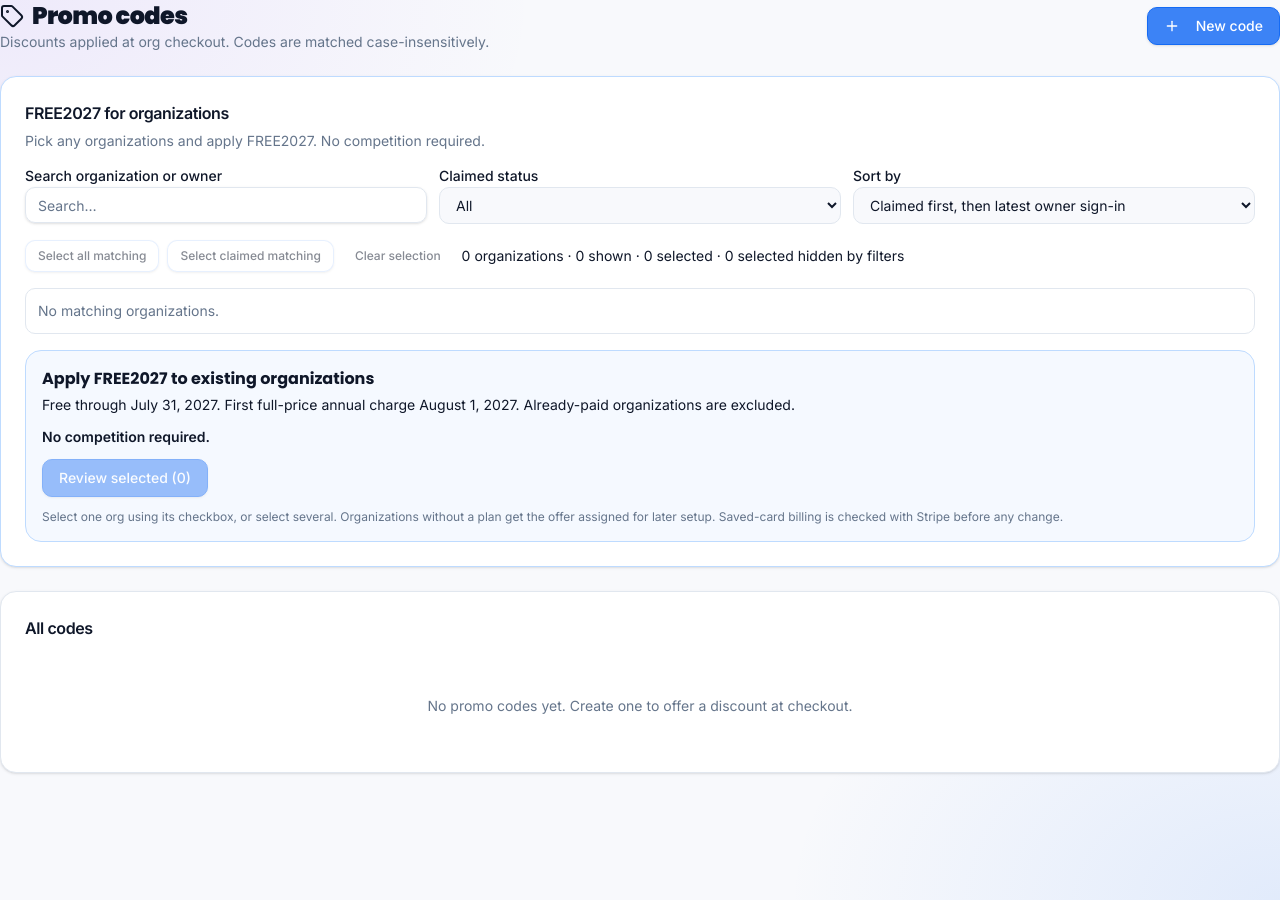
Test: promo offer mode › puts the choice before the code, removes all discount controls, creates with code alone and reopens linked terms
Click the button with test id "btn-new-promo" at (1213, 26), box [1147,7,1279,45]
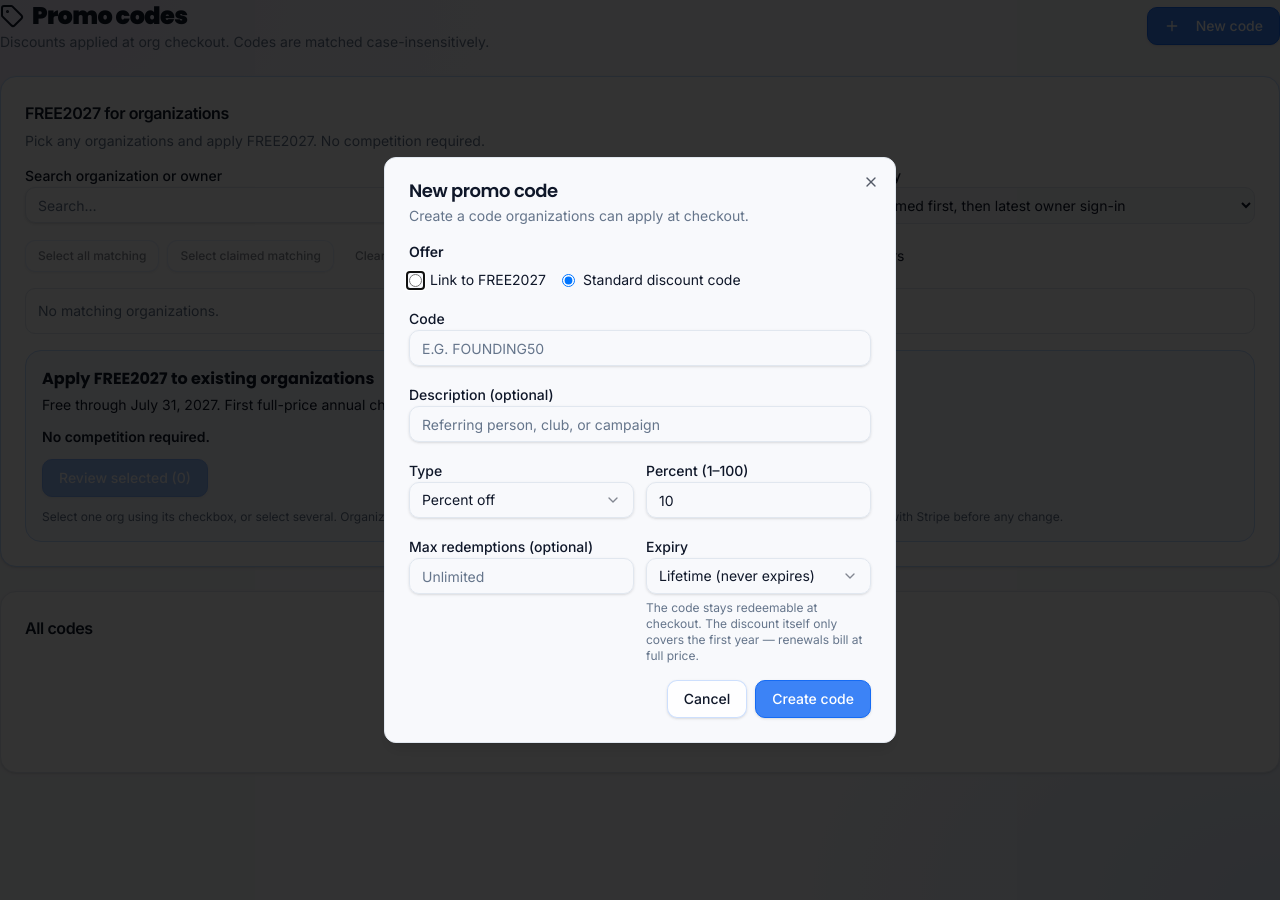
Click the radio button labelled "Link to FREE2027" at (416, 280), box [409,274,422,286]
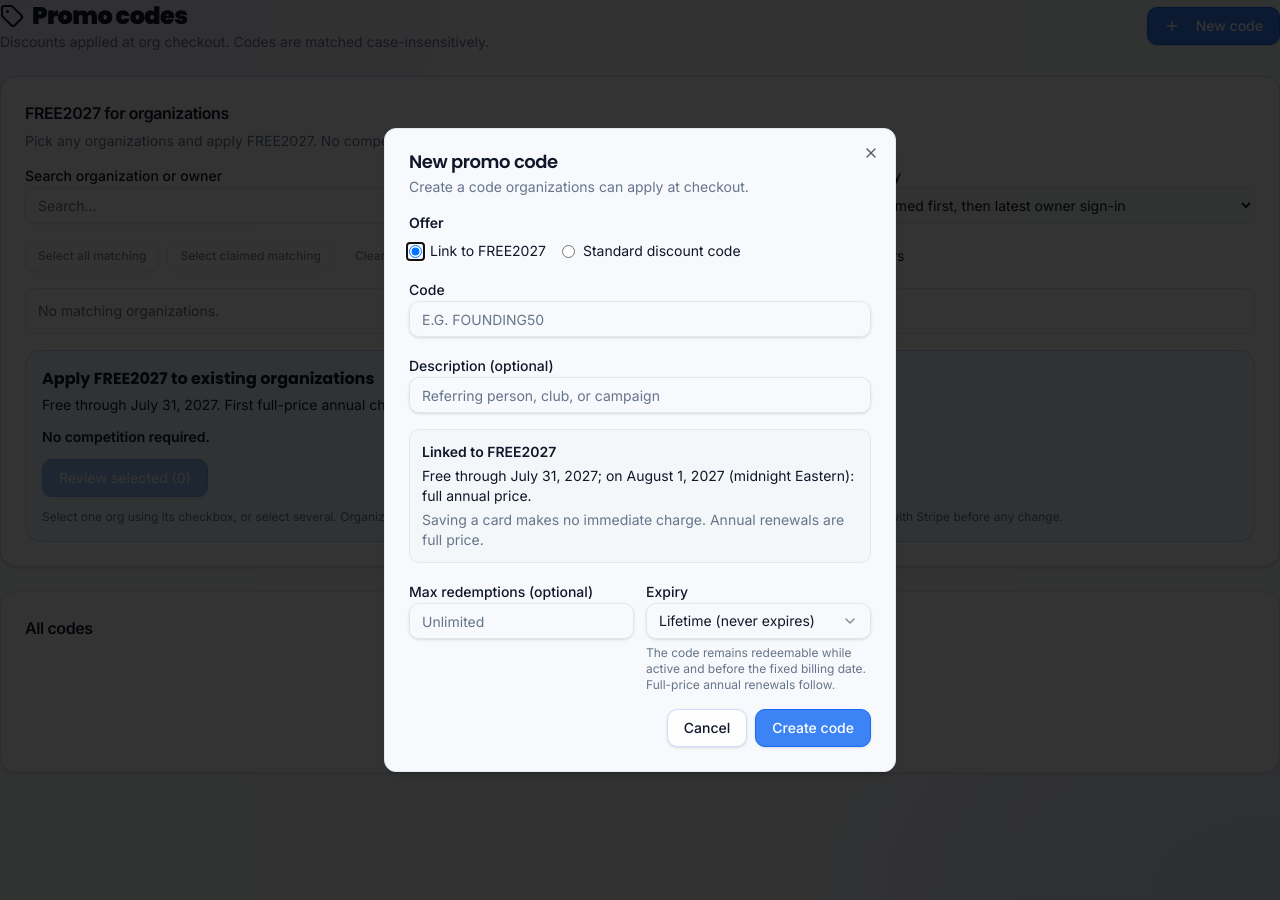
Result: the dropdown with test id "select-discount-type" is gone
Result: the number field with test id "input-new-value" is gone
Result: the text "Free through July 31, 2027" is shown at [422,467,854,484]
Type "SOURCE-COACH" into the field with test id "input-new-code" at (640, 319), box [409,301,871,337]
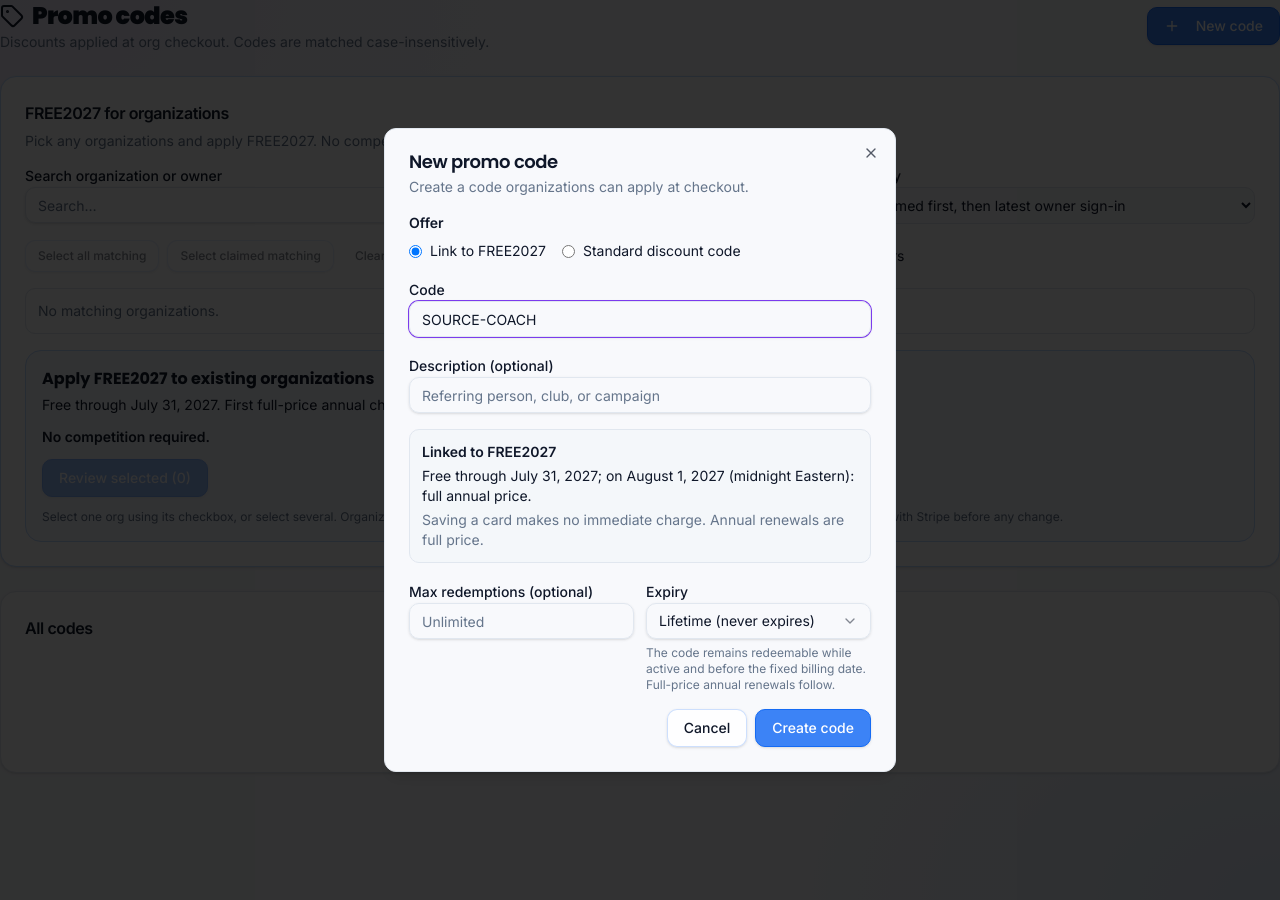
Click the button with test id "btn-save-promo" at (813, 728), box [755,709,871,747]
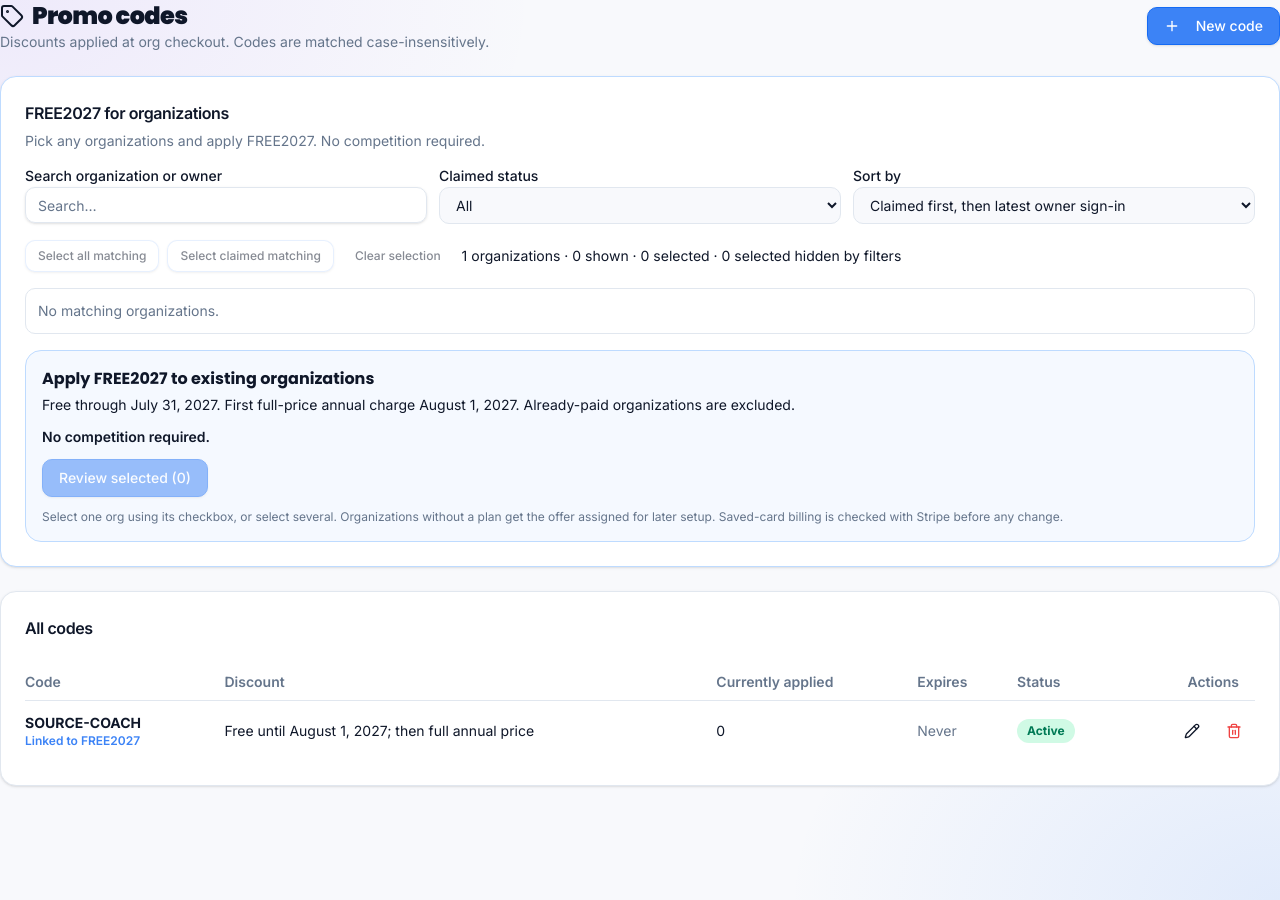
Result: the text "Linked to FREE2027" is shown at [25,733,140,748]
Result: the row with test id "promo-row-source-coach" is shown at [25,700,1255,761]
Click the button with test id "btn-edit-source-coach" at (1192, 731), box [1171,715,1213,747]
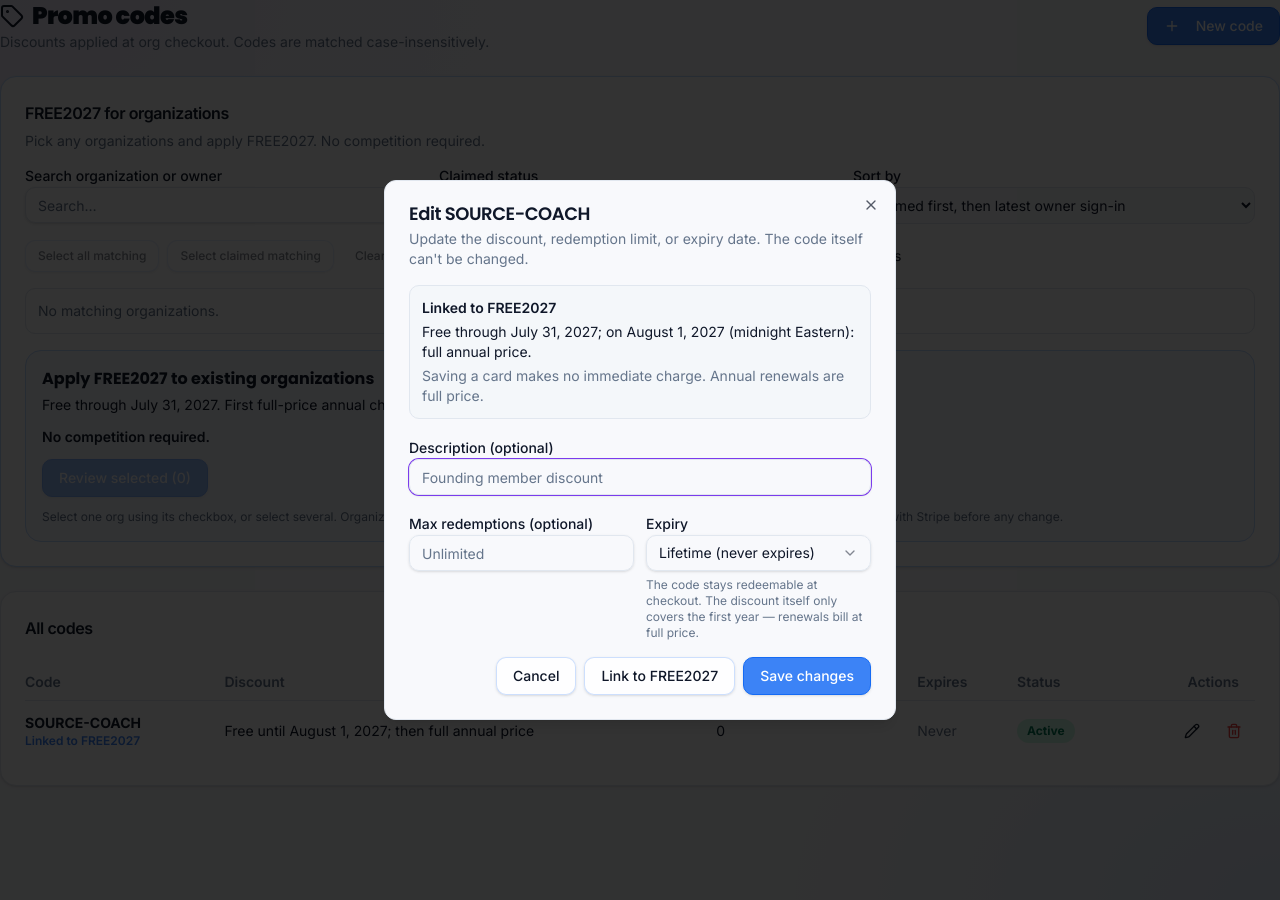
Result: the element with test id "linked-offer-terms" is shown at [409,285,871,419]
